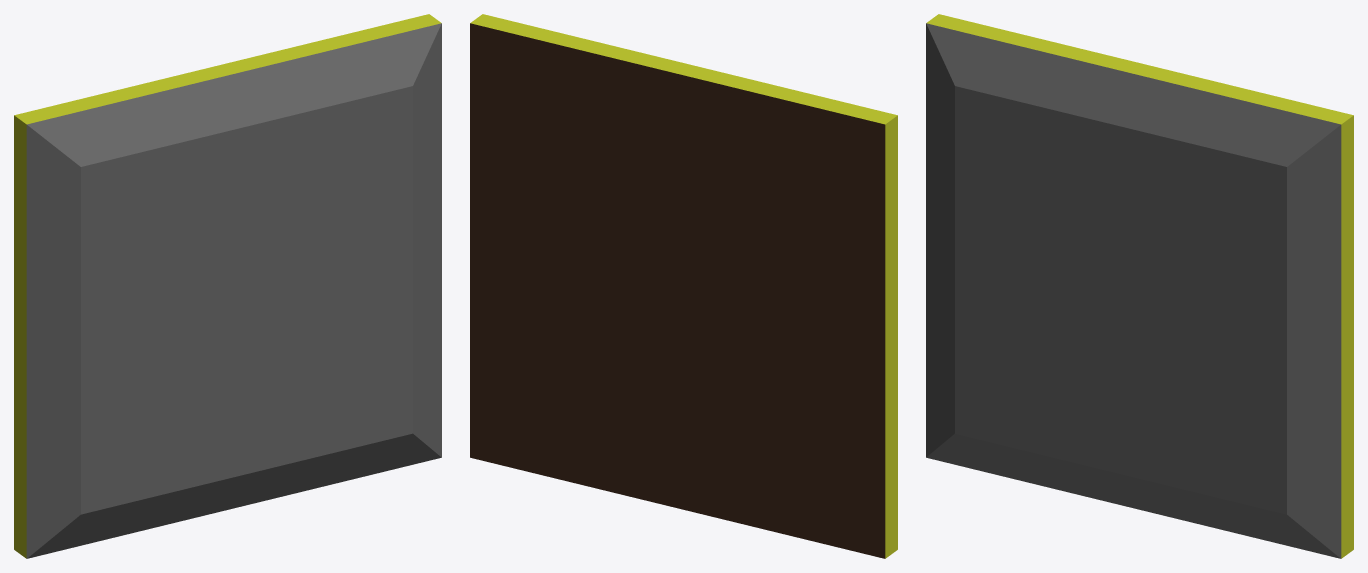
Rendered from laser1.fbx.
3 renders of one model, left to right at view 1: azimuth 30°, elevation 25°; view 2: azimuth 150°, elevation 25°; view 3: azimuth 330°, elevation 25°, orthographic.
Visible parts, largest first — view 1: Cube; view 2: Cube; view 3: Cube.
Boxes of the visible parts, box(x1,y1,x2,y2) form: Cube: box(14, 14, 441, 558); Cube: box(470, 14, 897, 558); Cube: box(926, 14, 1353, 558).
Size of the model in its own units: 1.9 by 1.9 by 0.2.
